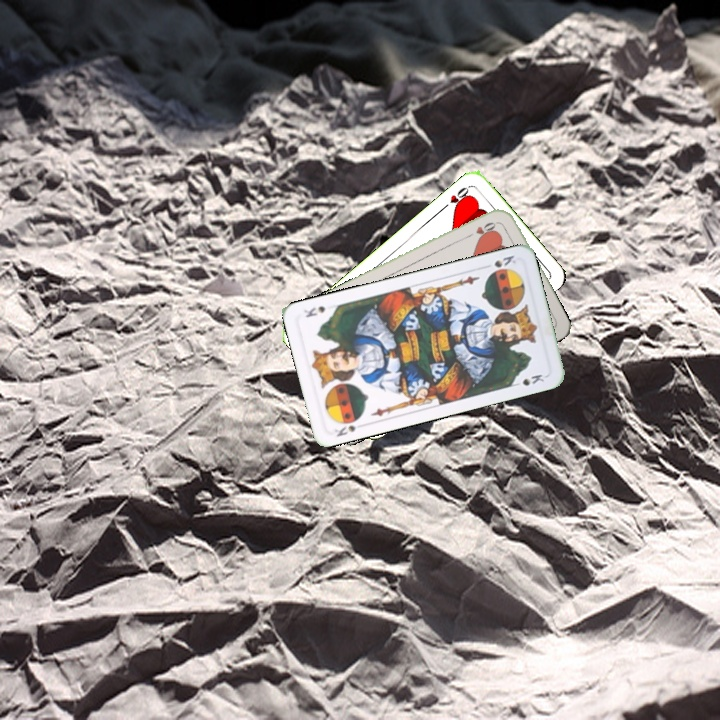HO: (438, 182, 473, 212), (463, 217, 502, 240)
SK: (487, 251, 518, 275), (331, 421, 358, 439)
